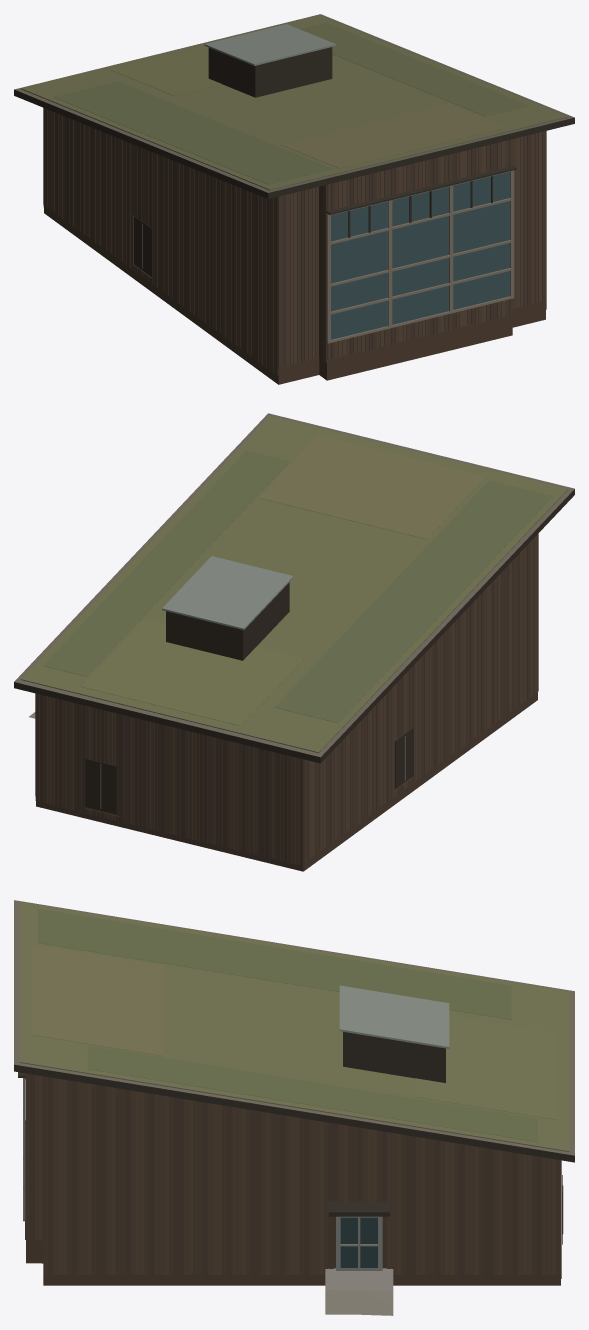
File: site.glb
3 views of the same model, one above another, from view 1: azimuth 30°, elevation 25°; view 2: azimuth 150°, elevation 25°; view 3: azimuth 270°, elevation 25° (orthographic). The views are drawn at different scales.
Visible parts, largest first — view 1: roof-f736712f; view 2: roof-f736712f; view 3: roof-f736712f, longhouse-approach.
Part boxes in pixels (x1=…): roof-f736712f: x1=14, y1=14, x2=574, y2=384; roof-f736712f: x1=14, y1=413, x2=574, y2=871; roof-f736712f: x1=14, y1=900, x2=574, y2=1285; longhouse-approach: x1=325, y1=1268, x2=393, y2=1315.
Bounding box in the file's own units: 18.26 × 9.69 × 21.46.
